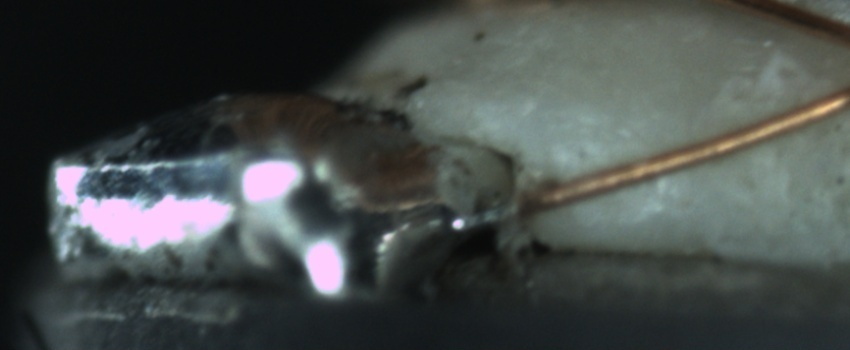TS: (446, 195, 518, 231)
TTCW: (444, 179, 568, 230)
